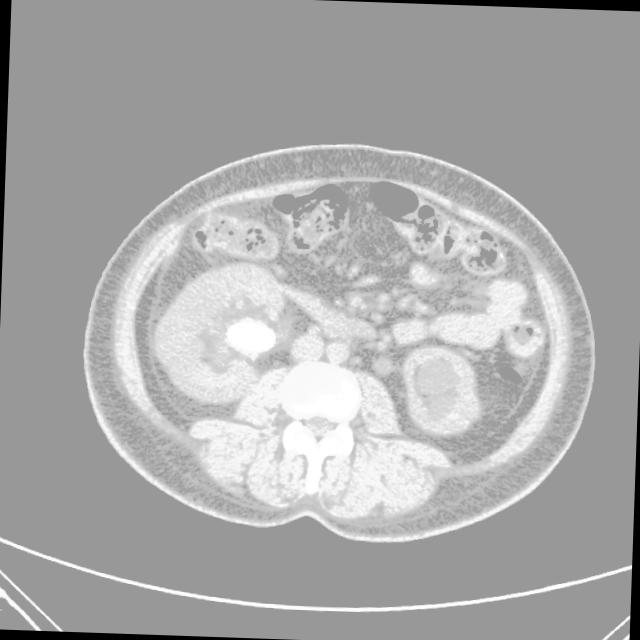STONE: (93, 139, 569, 396)
